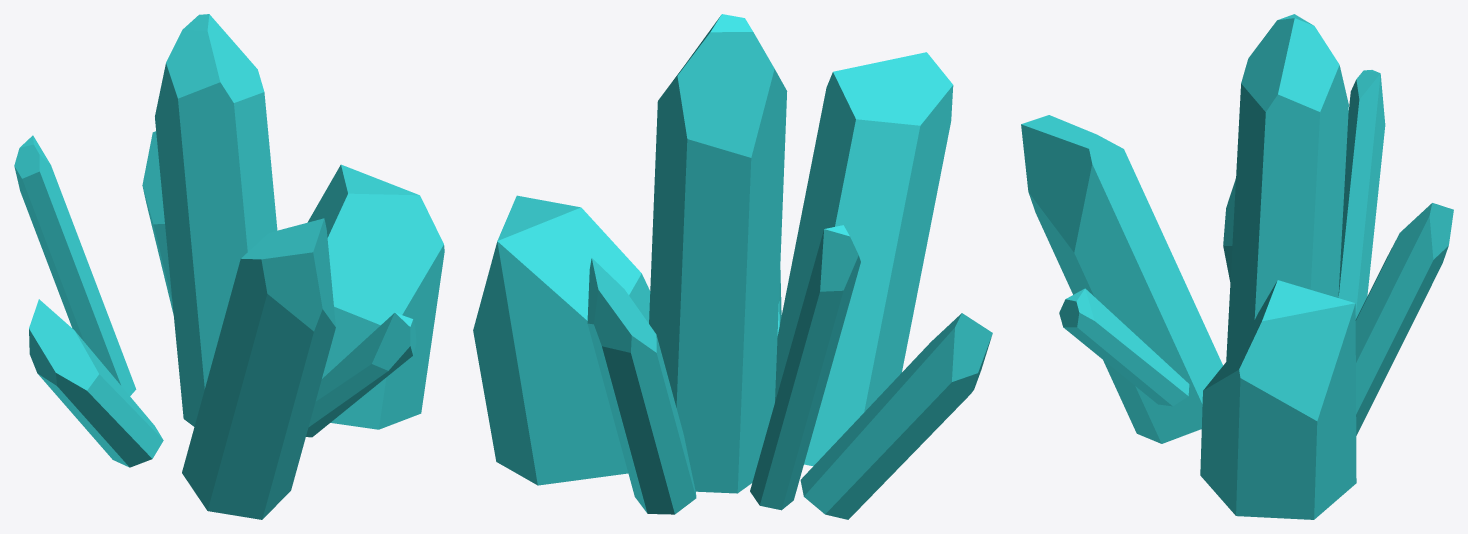
File: tutorialCrystal.fbx
The picture shows the model from 3 angles, left to right: view 1: azimuth 30°, elevation 25°; view 2: azimuth 150°, elevation 25°; view 3: azimuth 270°, elevation 25°; orthographic projection. The views are drawn at different scales.
Parts seen in each view (by area): view 1: Cylinder.004, Cylinder.002, Cylinder.001, Cylinder.005, Cylinder.007, Cylinder.003, Cylinder.006; view 2: Cylinder.004, Cylinder.002, Cylinder.001, Cylinder.005, Cylinder.006, Cylinder.007; view 3: Cylinder.001, Cylinder.004, Cylinder.002, Cylinder.006, Cylinder.007, Cylinder.003, Cylinder.005.
Part boxes in pixels (x1,y1,x2,y2): Cylinder.004: (155, 14, 277, 426); Cylinder.002: (182, 218, 335, 519); Cylinder.001: (307, 164, 444, 429); Cylinder.005: (29, 299, 163, 467); Cylinder.007: (14, 135, 136, 395); Cylinder.003: (306, 312, 416, 437); Cylinder.006: (142, 131, 173, 314); Cylinder.004: (649, 14, 787, 493); Cylinder.002: (775, 52, 953, 466); Cylinder.001: (473, 195, 650, 485); Cylinder.005: (800, 313, 992, 519); Cylinder.006: (587, 258, 696, 514); Cylinder.007: (750, 225, 860, 510); Cylinder.001: (1200, 280, 1356, 519); Cylinder.004: (1226, 14, 1348, 361); Cylinder.002: (1021, 115, 1222, 443); Cylinder.006: (1355, 203, 1453, 435); Cylinder.007: (1338, 70, 1385, 319); Cylinder.003: (1059, 288, 1189, 406); Cylinder.005: (1223, 178, 1235, 281).
Bounding box in the file's own units: 860 × 871 × 797.
